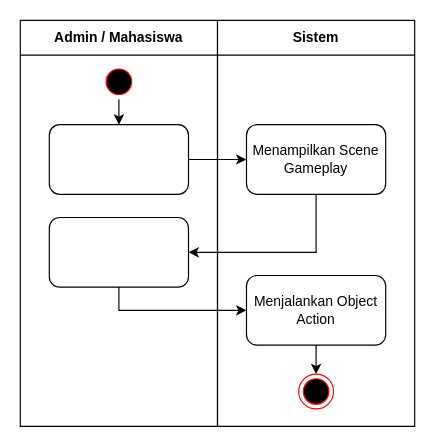
Some shapes in this 435 by 447 pixel diagram are drawn without their labels. Each missing label, with the centre of its shape:
"Menekan Tombol Start Game" belongs at pixel 118 159.
"Menggerakan Joystick untuk mendekati Object Action" belongs at pixel 118 251.
